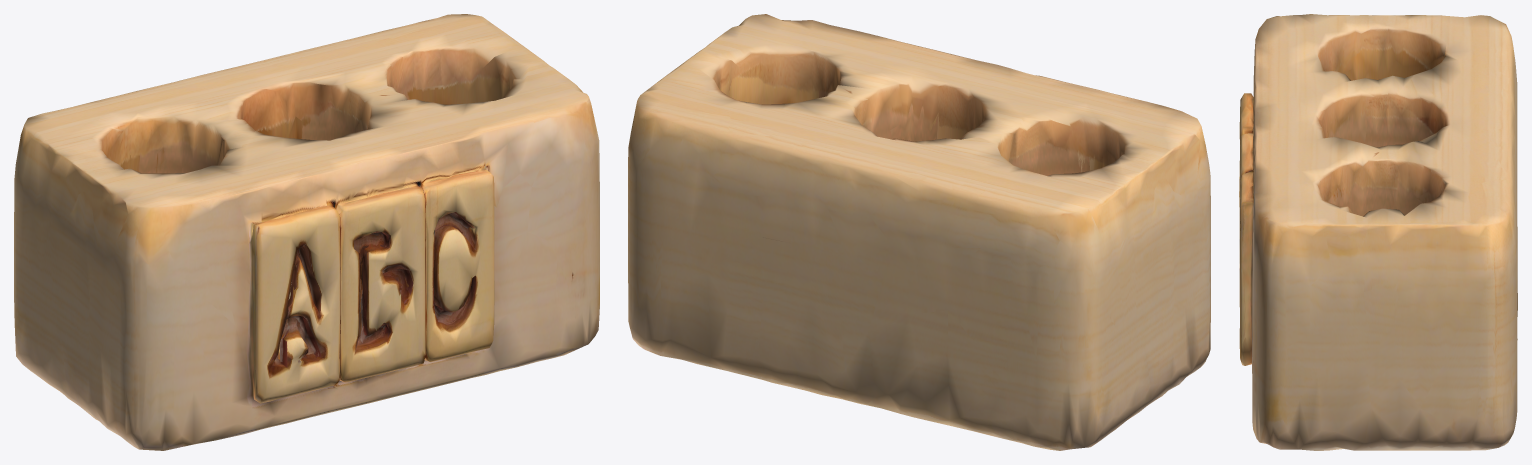
File: model_tall.obj
3 renders of one model, left to right at view 1: azimuth 30°, elevation 25°; view 2: azimuth 150°, elevation 25°; view 3: azimuth 270°, elevation 25°, orthographic. The views are drawn at different scales.
Bounding box in the file's own units: 0.1102 × 0.0548 × 0.0598.
Materials: 1 (1 with a texture image).
